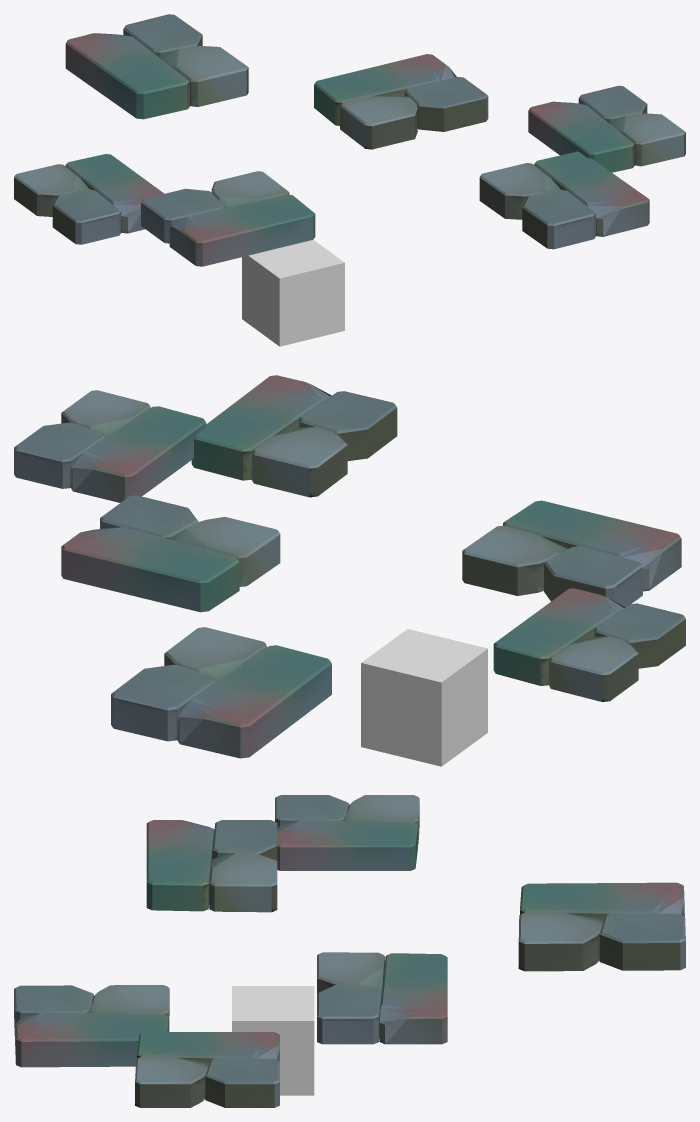
Rendered from battlescence-4-floor011.fbx.
The picture shows the model from 3 angles, top to bottom: view 1: azimuth 30°, elevation 25°; view 2: azimuth 150°, elevation 25°; view 3: azimuth 270°, elevation 25°; orthographic projection. The views are drawn at different scales.
Parts seen in each view (by area): view 1: Cube.086, Cube.085, Cube.070, Cube.071, battlescence-4-floor011, Cube.079, Cube.094; view 2: Cube.086, Cube.070, Cube.071, Cube.085, Cube.094, battlescence-4-floor011, Cube.079; view 3: Cube.086, Cube.070, Cube.085, Cube.071, Cube.079, Cube.094, battlescence-4-floor011.
Part boxes in pixels (box(x1,y1,x2,y2)): Cube.086: box(65, 14, 248, 119); Cube.085: box(141, 171, 315, 266); Cube.070: box(314, 54, 488, 149); Cube.071: box(479, 151, 649, 249); battlescence-4-floor011: box(242, 239, 344, 346); Cube.079: box(528, 85, 685, 172); Cube.094: box(14, 154, 164, 244); Cube.086: box(111, 627, 331, 758); Cube.070: box(61, 495, 280, 612); Cube.071: box(191, 375, 397, 497); Cube.085: box(462, 500, 681, 607); Cube.094: box(493, 588, 685, 701); battlescence-4-floor011: box(361, 629, 487, 766); Cube.079: box(14, 390, 206, 502); Cube.086: box(518, 882, 685, 971); Cube.070: box(317, 952, 447, 1044); Cube.085: box(146, 820, 277, 912); Cube.071: box(14, 985, 169, 1067); Cube.079: box(135, 1032, 279, 1107); Cube.094: box(275, 795, 419, 870); battlescence-4-floor011: box(232, 986, 314, 1095).
Bounding box in the file's own units: 1038 × 293 × 1009.
